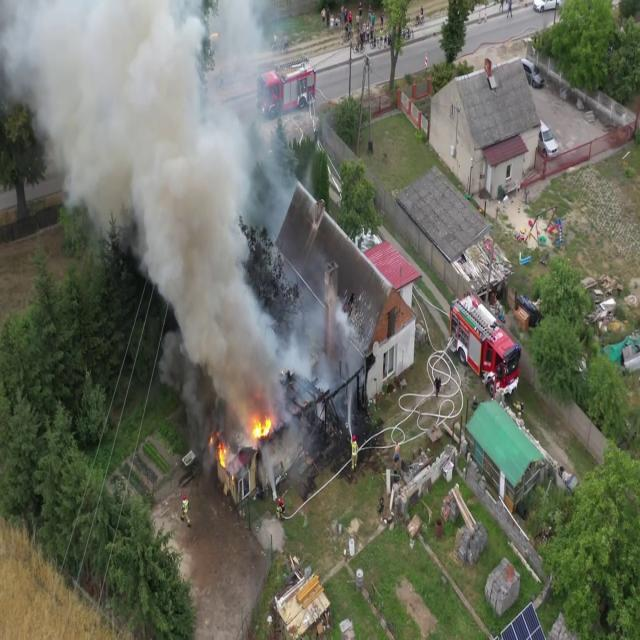Fire: (246, 404, 278, 449), (212, 432, 232, 472)
Smoke: (0, 0, 292, 394), (285, 264, 368, 431)
